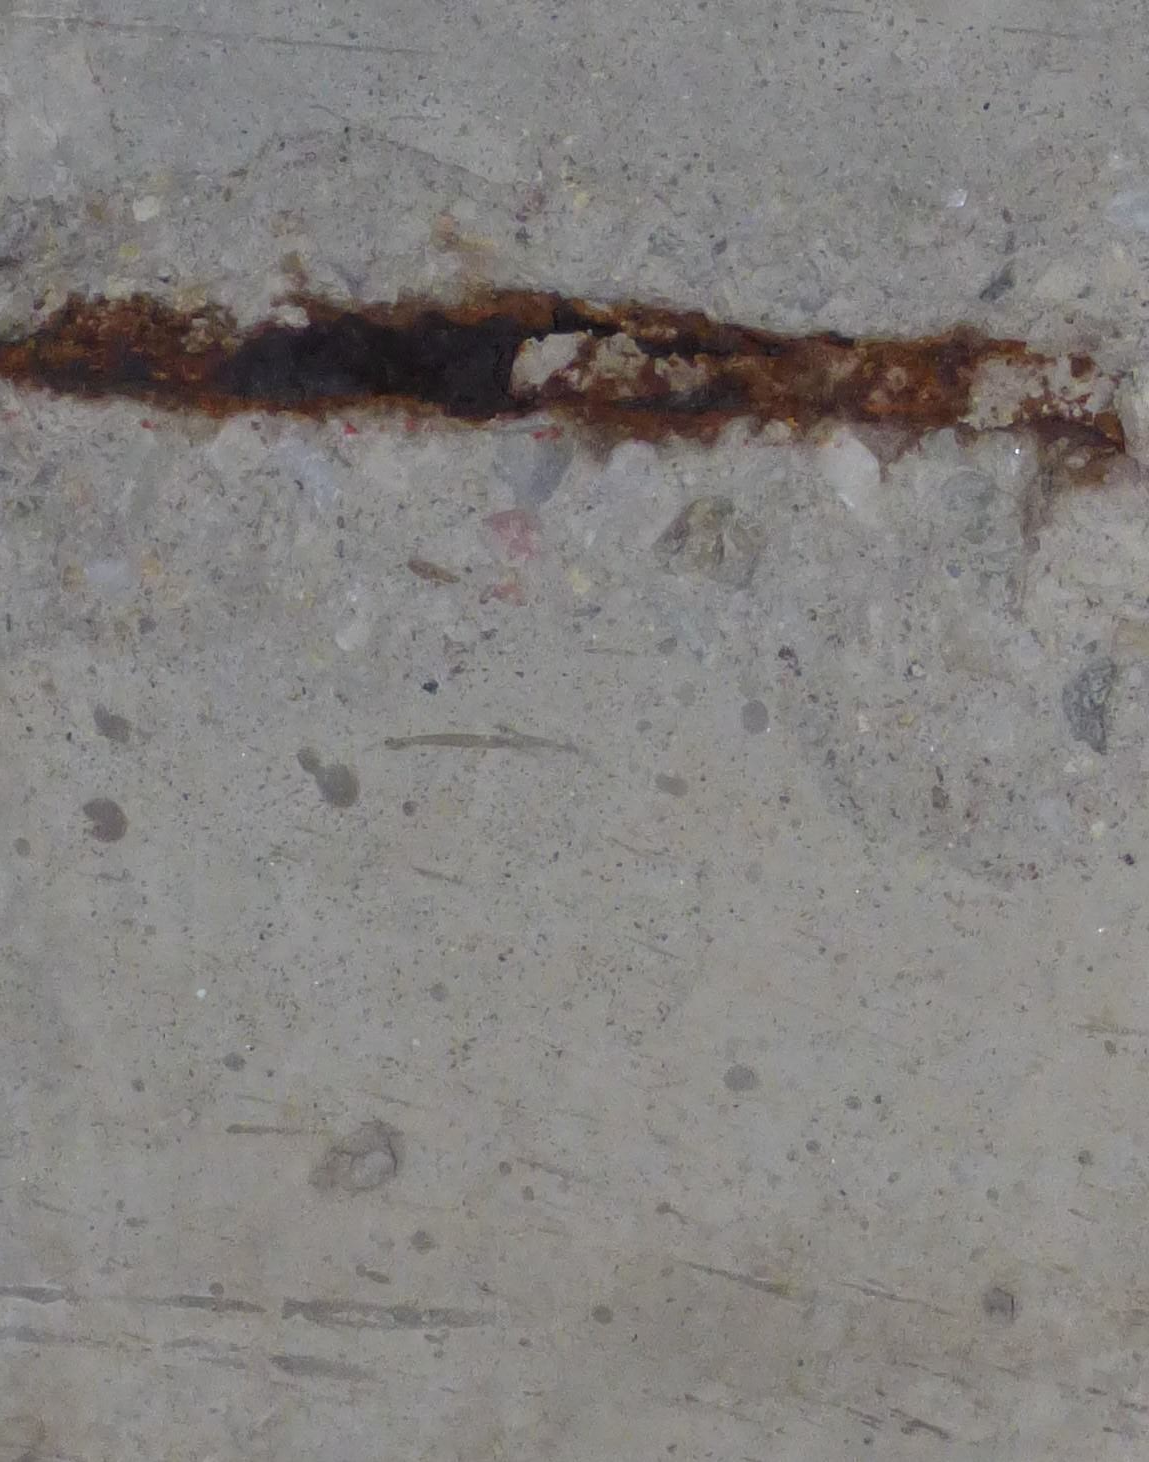Exposed reinforcement: (1, 281, 1149, 483)
